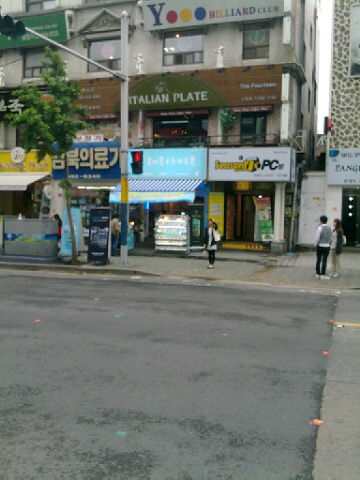traffic_light: (132, 149, 144, 174)
